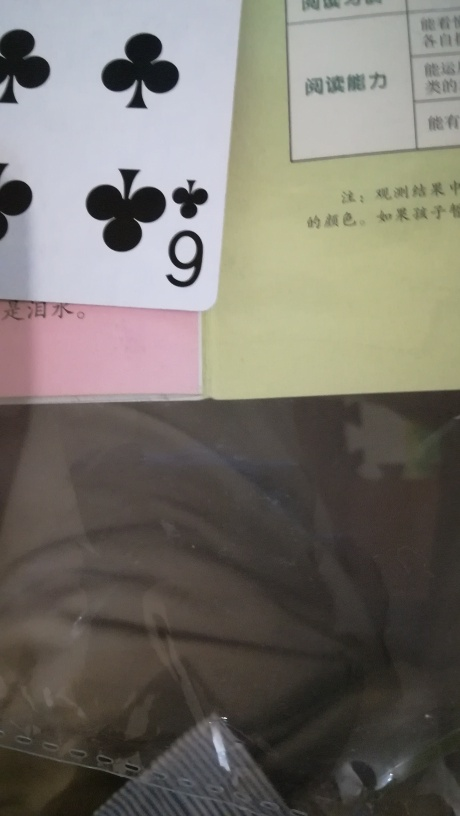mh 6: (0, 5, 221, 323)
